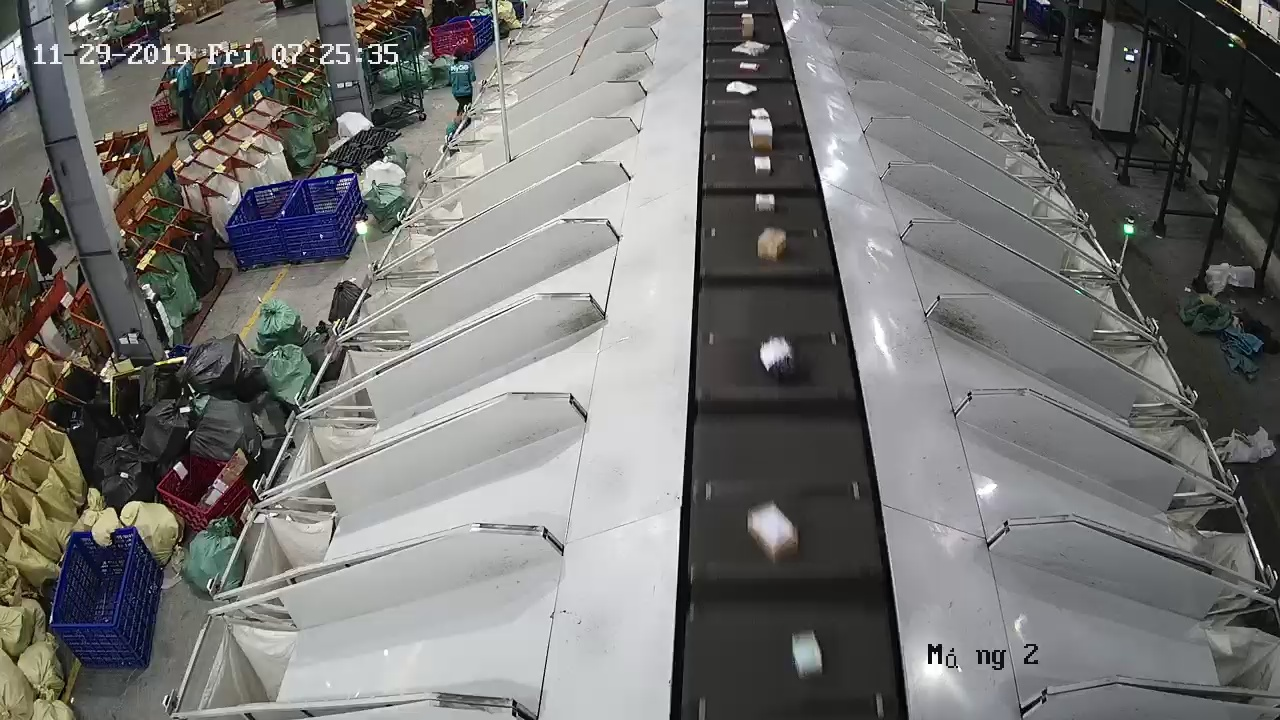parcel: (751, 503, 800, 565), (758, 335, 799, 381), (792, 631, 823, 680), (757, 226, 787, 263), (754, 193, 776, 212)
